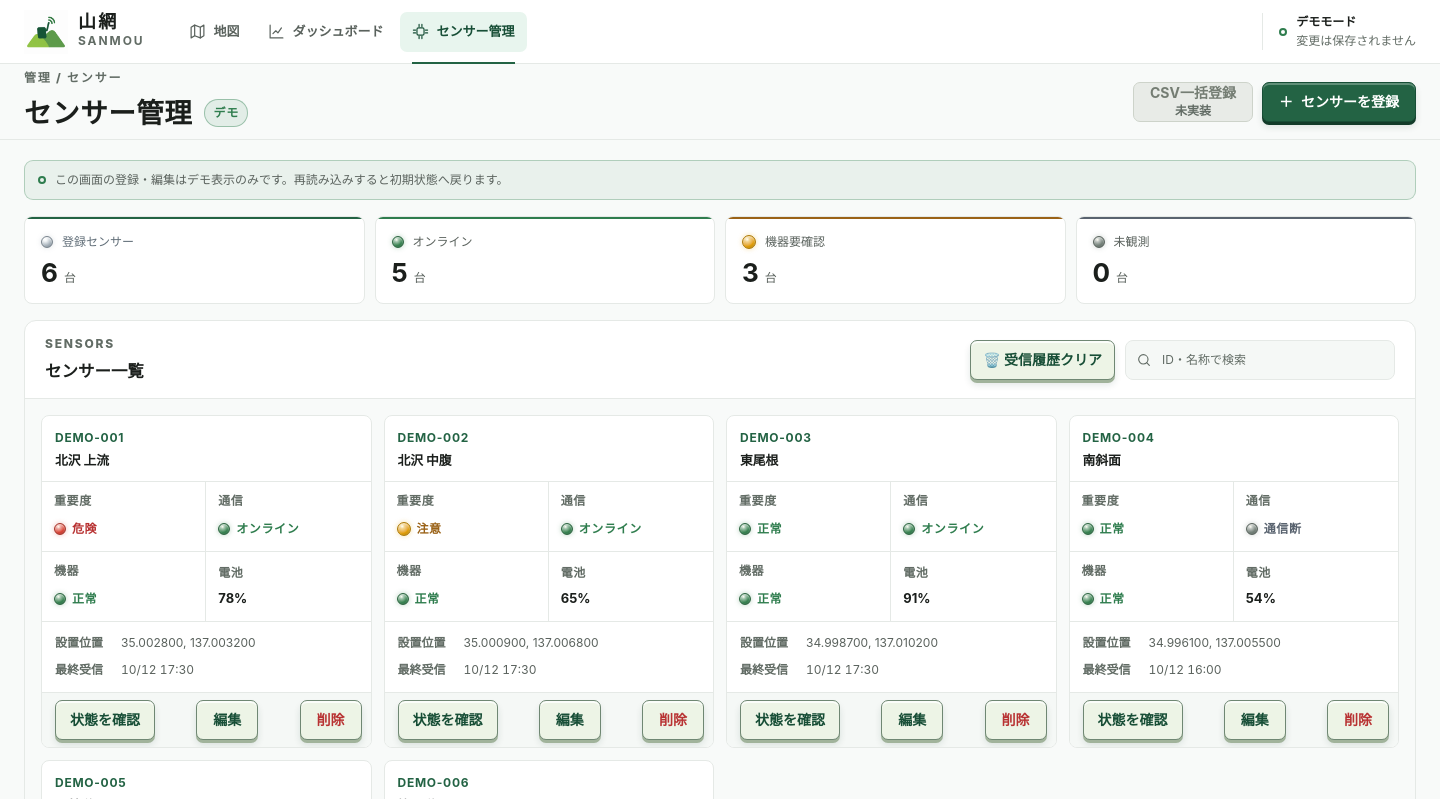
Test case: SensorManagement › 「削除」ボタンをクリックすると確認後にセンサーが一覧から削除される
Expected: the text "DEMO-001" is shown, [55, 429, 124, 447]
Click the button with aria-label "DEMO-001を削除": point(330, 720) [300, 700, 362, 740]
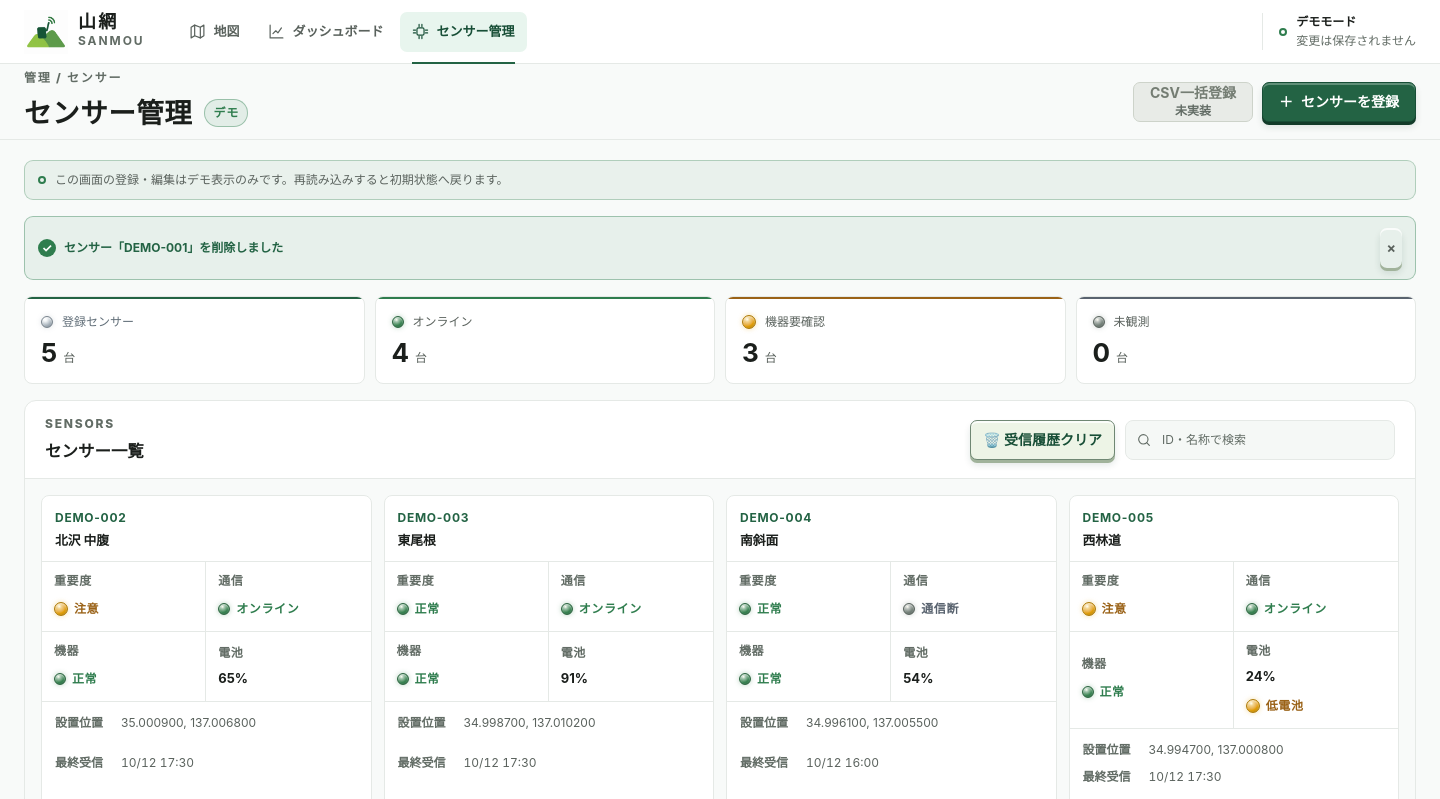
Now the text "✓ センサー「DEMO-001」を削除しました ×" is shown, box [24, 216, 1416, 280]
